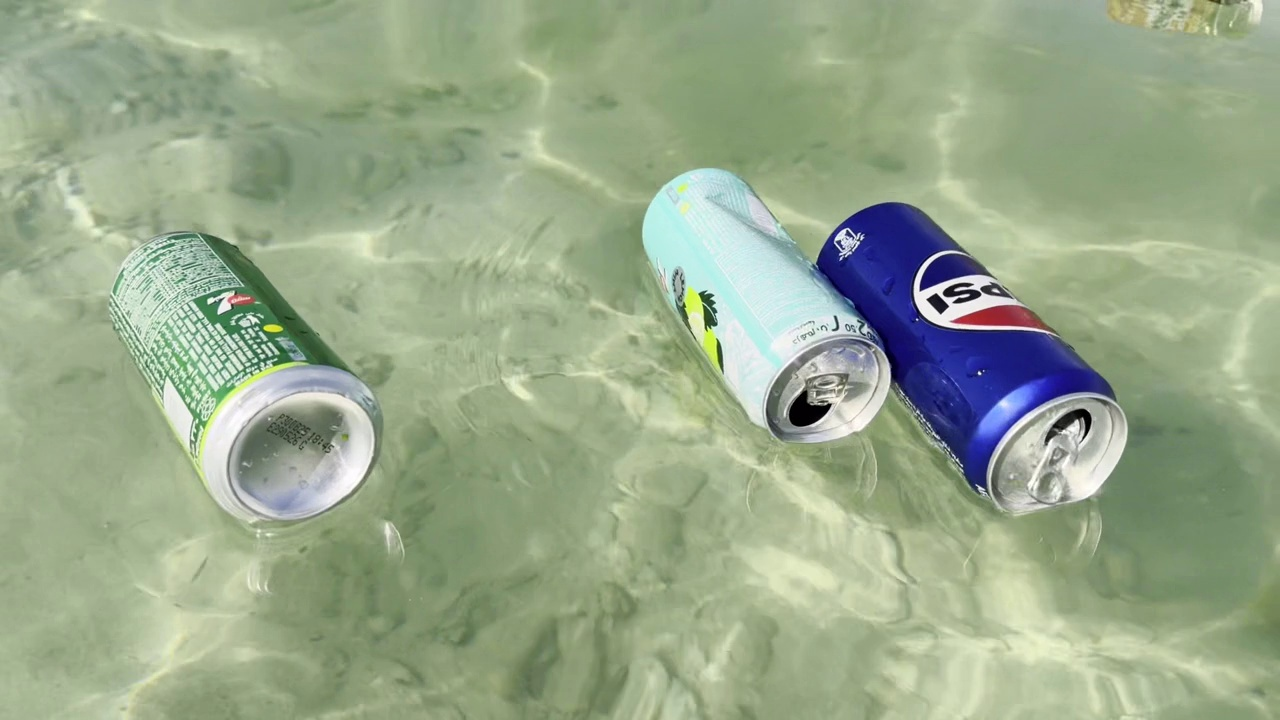debris: (795, 175, 1137, 529), (94, 227, 399, 554), (636, 154, 896, 459)
